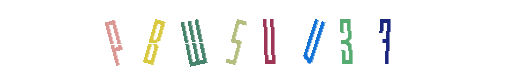3: (273, 0, 353, 80)
5: (221, 0, 301, 80)
7: (345, 0, 425, 80)
B: (140, 0, 220, 80)
P: (113, 0, 193, 80)
U: (229, 0, 309, 80)
V: (249, 0, 329, 80)
W: (214, 0, 294, 80)
